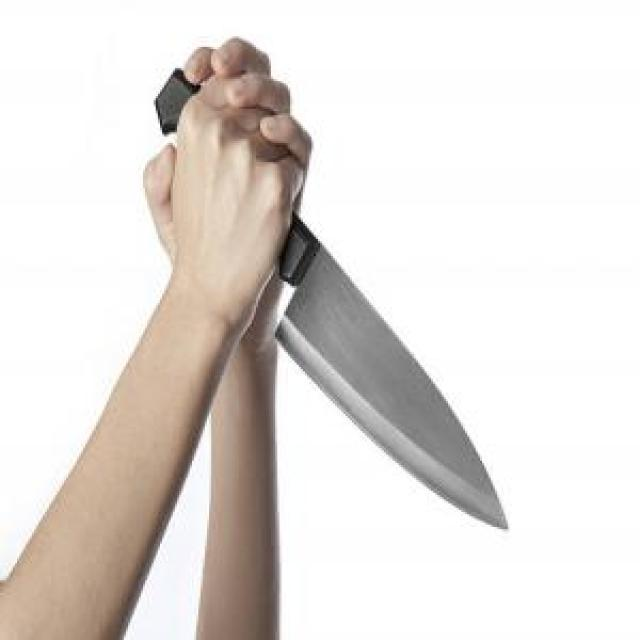knife: (153, 68, 508, 530)
